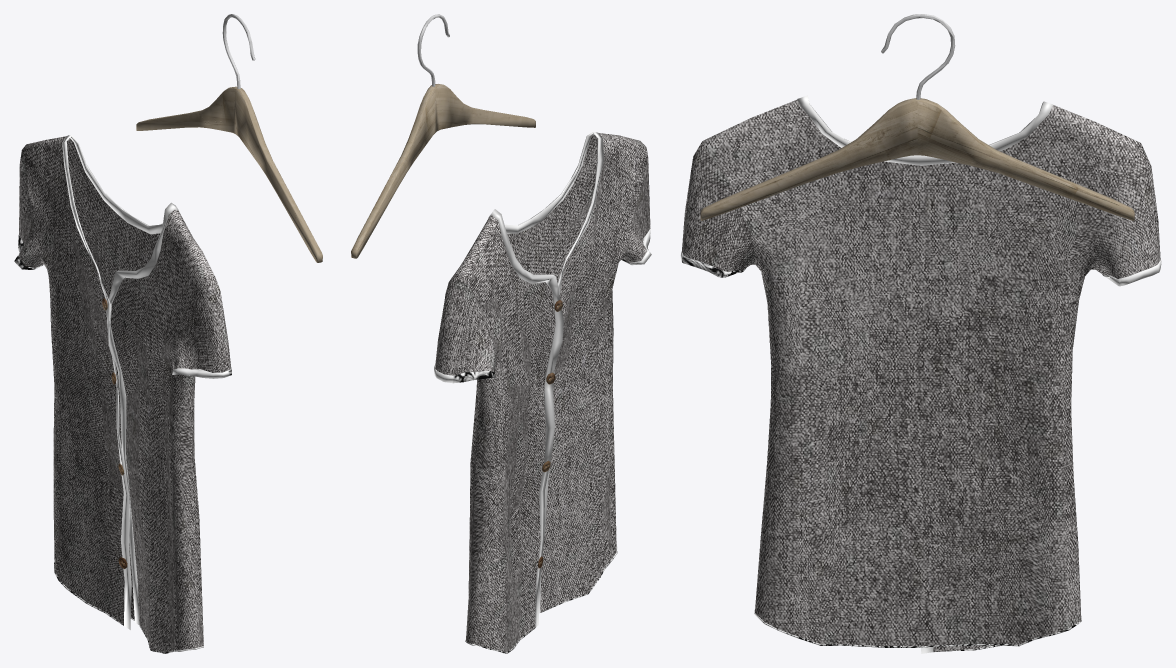
File: rod-blouse03.glb
3 renders of one model, left to right at view 1: azimuth 30°, elevation 25°; view 2: azimuth 150°, elevation 25°; view 3: azimuth 270°, elevation 25°, orthographic. The views are drawn at different scales.
Visible parts, largest first — view 1: blouse03.001, Hangers_for_clothes096.001; view 2: blouse03.001, Hangers_for_clothes096.001; view 3: blouse03.001, Hangers_for_clothes096.001.
Boxes of the visible parts, x1,y1,x2,y2 form: blouse03.001: (14,135,231,653); Hangers_for_clothes096.001: (136,14,322,262); blouse03.001: (434,132,651,653); Hangers_for_clothes096.001: (351,14,535,258); blouse03.001: (680,95,1161,653); Hangers_for_clothes096.001: (700,14,1134,220).
Size of the model in its own units: 0.2017 by 0.7808 by 0.4849.
5 materials, 4 textured.
